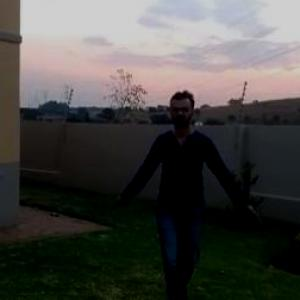land: (104, 78, 269, 298)
